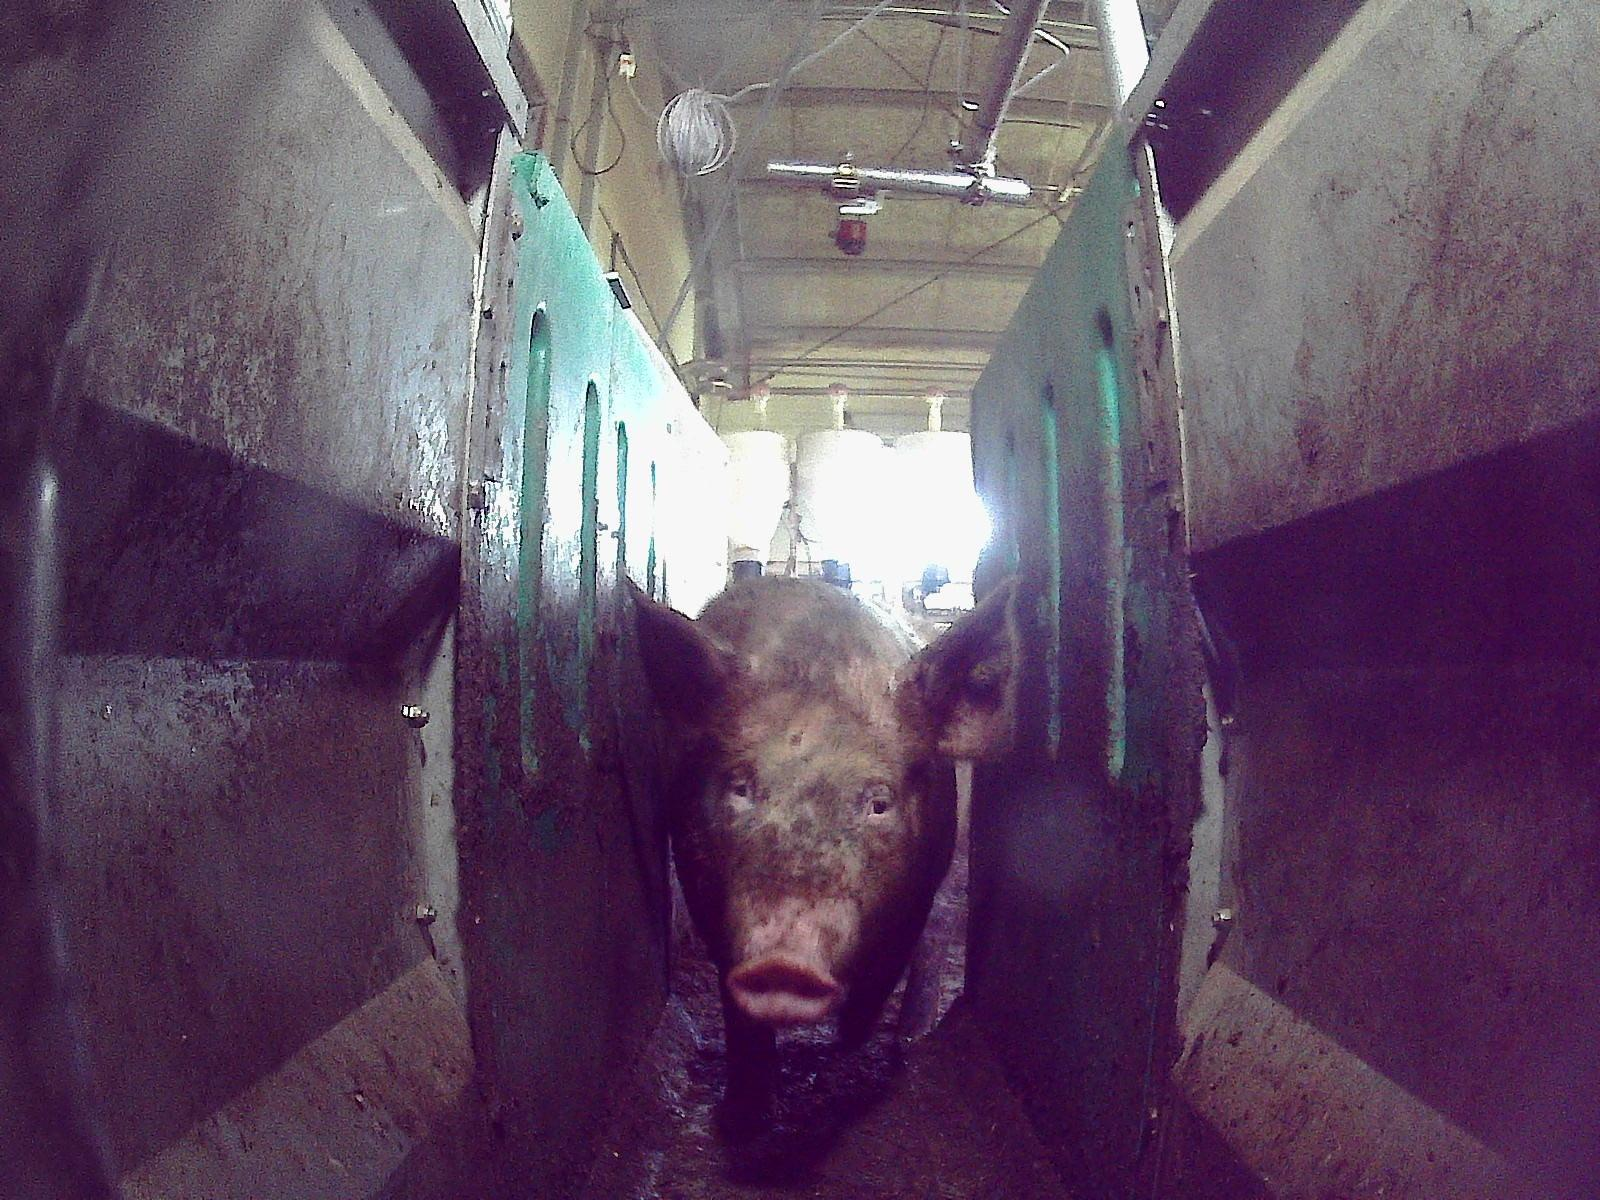Face: (694, 681, 929, 1024)
